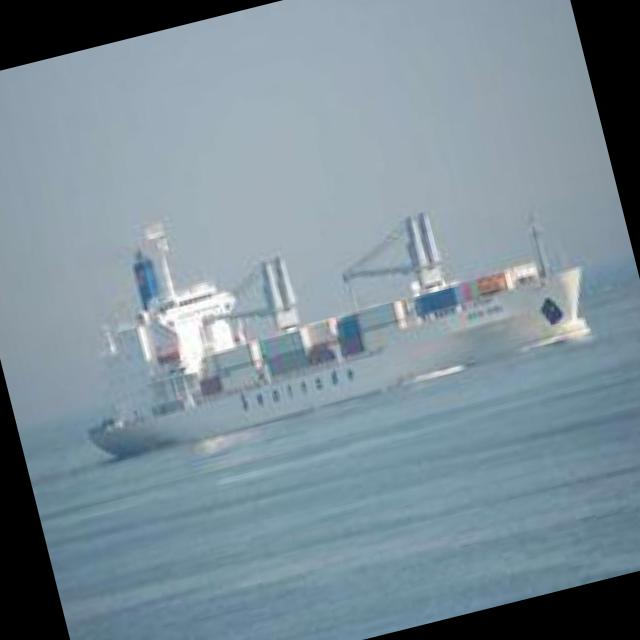boat: (39, 148, 610, 468)
